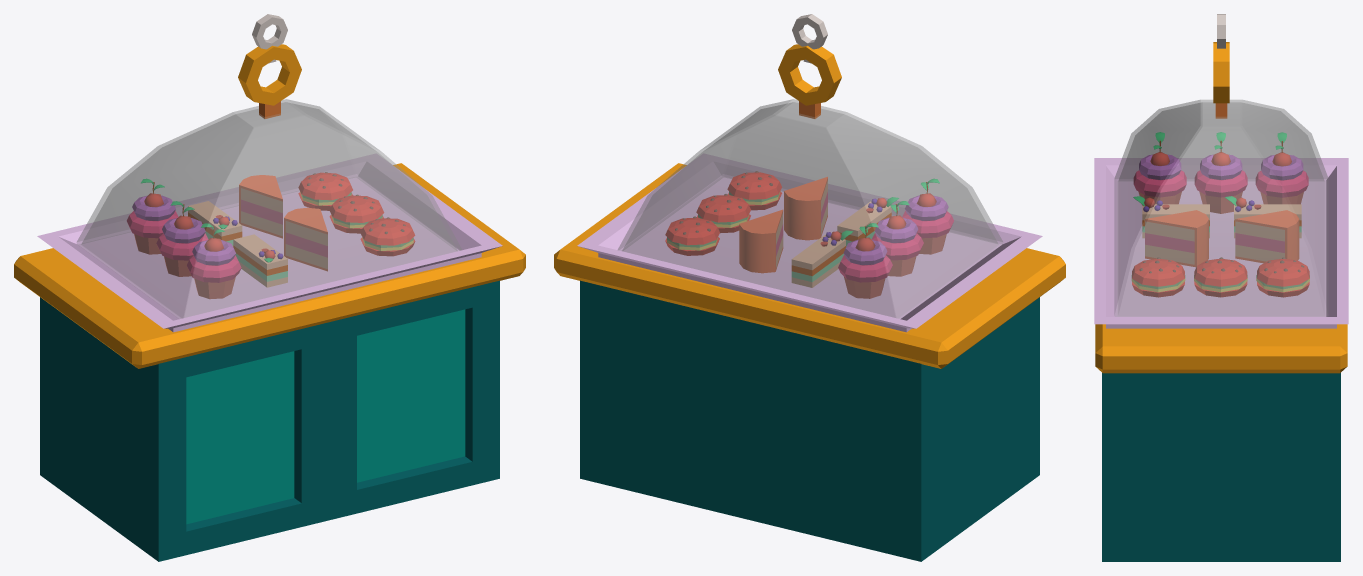
The model's file is Bakery_lv2.fbx.
3 views of the same model, side by side, from view 1: azimuth 30°, elevation 25°; view 2: azimuth 150°, elevation 25°; view 3: azimuth 270°, elevation 25° (orthographic).
Parts seen in each view (by area): view 1: Bakery_lv2; view 2: Bakery_lv2; view 3: Bakery_lv2.
Boxes of the visible parts, x1,y1,x2,y2 form: Bakery_lv2: (14,14,525,561); Bakery_lv2: (554,14,1065,561); Bakery_lv2: (1094,14,1348,561).
Size of the model in its own units: 241 by 270 by 134.
